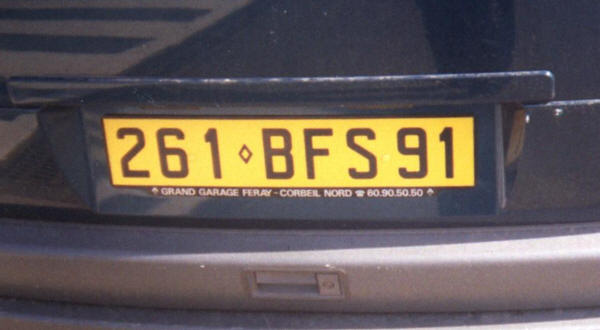license_plate: (101, 116, 475, 189)
